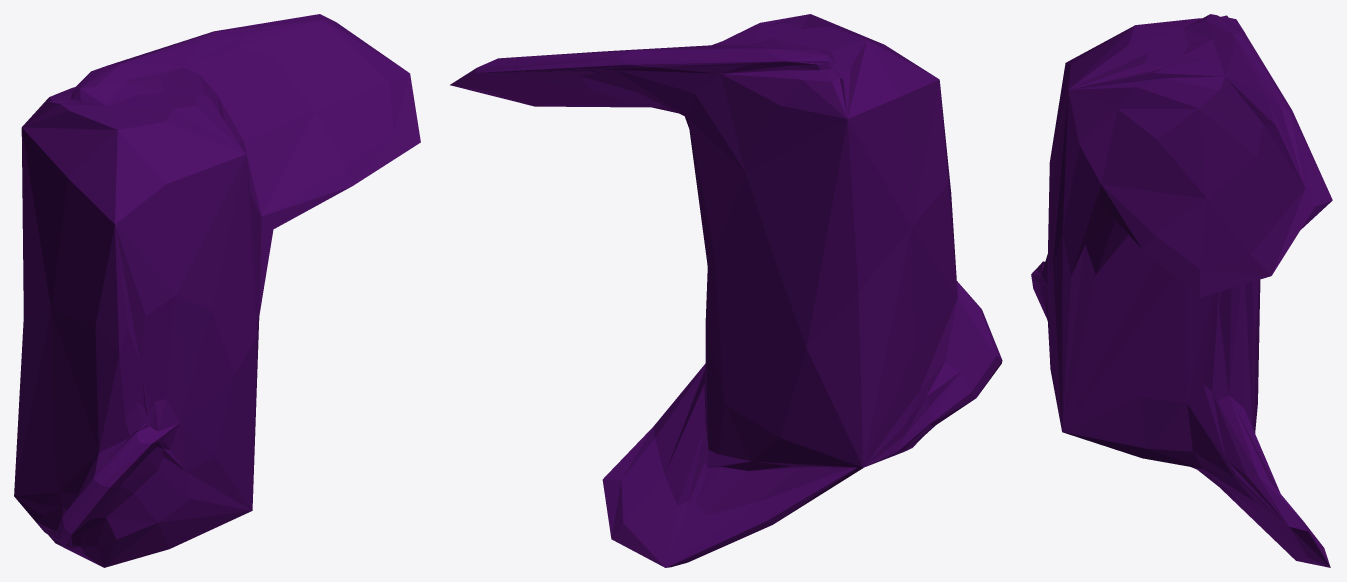
3 views of the same model, side by side, from view 1: azimuth 30°, elevation 25°; view 2: azimuth 150°, elevation 25°; view 3: azimuth 270°, elevation 25° (orthographic). The views are drawn at different scales.
Visible parts, largest first — view 1: 814_Cube.3283; view 2: 814_Cube.3283; view 3: 814_Cube.3283.
Boxes of the visible parts, x1,y1,x2,y2 form: 814_Cube.3283: [14, 14, 420, 567]; 814_Cube.3283: [450, 14, 1002, 567]; 814_Cube.3283: [1031, 14, 1332, 567].
Bounding box in the file's own units: 14.13 × 15.34 × 8.35.
